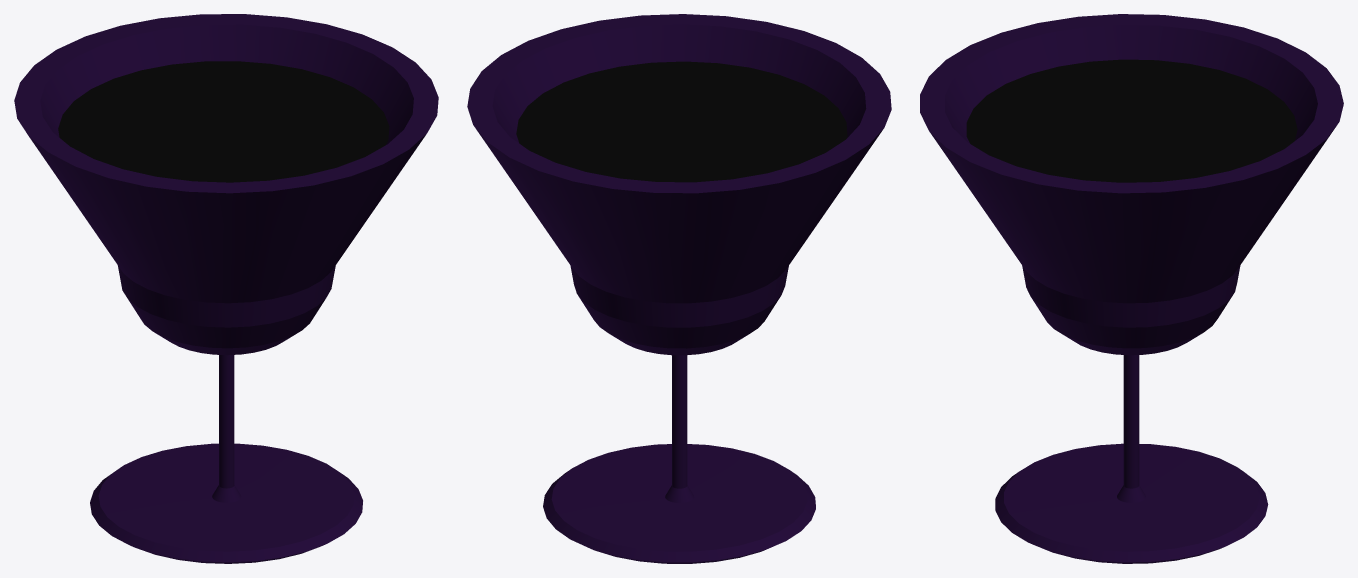
Rendered from Glass5.FBX.
3 renders of one model, left to right at view 1: azimuth 30°, elevation 25°; view 2: azimuth 150°, elevation 25°; view 3: azimuth 270°, elevation 25°, orthographic.
Parts seen in each view (by area): view 1: Object017, Object019, Line007; view 2: Object017, Object019, Line007; view 3: Object017, Object019, Line007.
Part boxes in pixels (left/top/right/bottom): Object017: left=14, top=14, right=438, bottom=355; Object019: left=58, top=61, right=389, bottom=182; Line007: left=90, top=355, right=362, bottom=563; Object017: left=467, top=14, right=891, bottom=355; Object019: left=516, top=61, right=847, bottom=182; Line007: left=543, top=355, right=815, bottom=563; Object017: left=920, top=14, right=1343, bottom=355; Object019: left=966, top=59, right=1297, bottom=182; Line007: left=995, top=355, right=1268, bottom=563.
Bounding box in the file's own units: 65.98 × 69.68 × 65.89.
